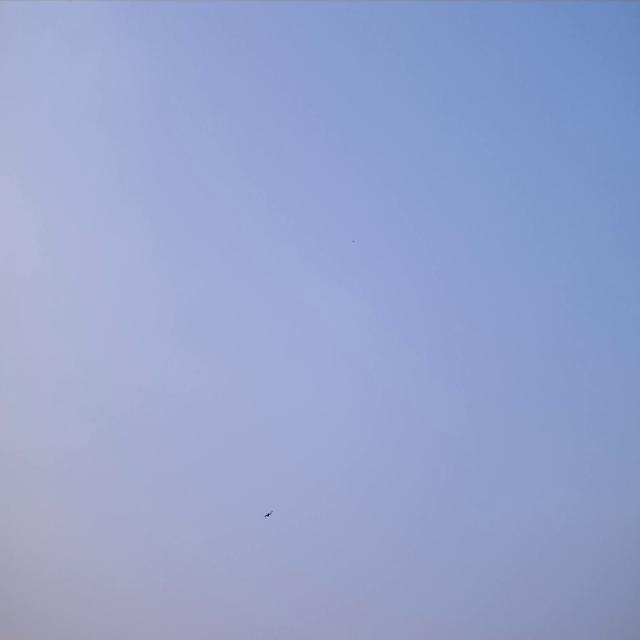UAV: (262, 508, 274, 520)
